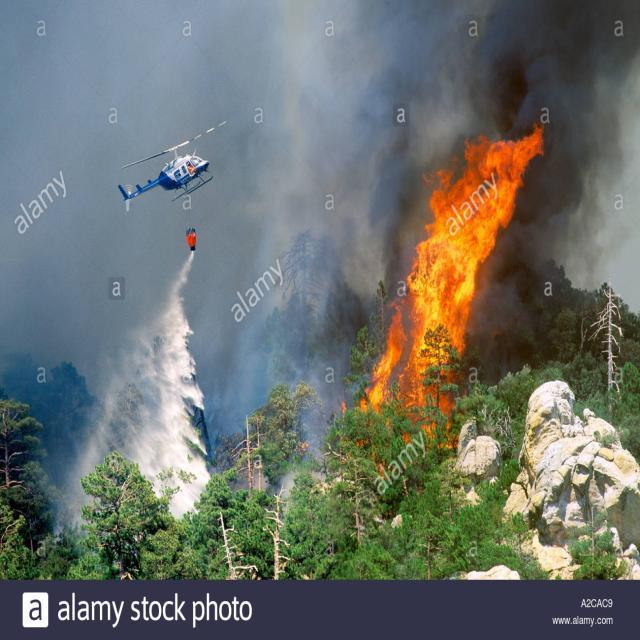Fire: (384, 128, 542, 434)
Smoke: (340, 0, 627, 129), (264, 132, 362, 442), (551, 152, 580, 380)
